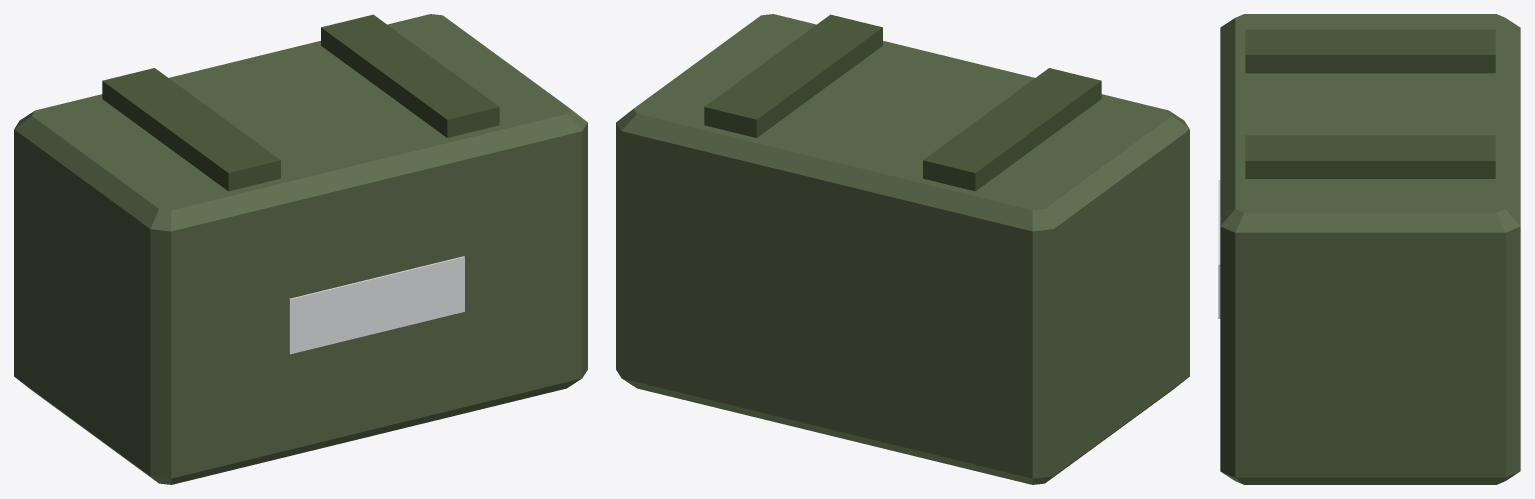
Rendered from supply_crate_military.glb.
The picture shows the model from 3 angles, left to right: view 1: azimuth 30°, elevation 25°; view 2: azimuth 150°, elevation 25°; view 3: azimuth 270°, elevation 25°; orthographic projection.
Parts seen in each view (by area): view 1: supply_crate_military; view 2: supply_crate_military; view 3: supply_crate_military.
Boxes of the visible parts, x1,y1,x2,y2 form: supply_crate_military: (14, 14, 587, 484); supply_crate_military: (616, 14, 1189, 484); supply_crate_military: (1218, 14, 1520, 484).
Bounding box in the file's own units: 1 × 0.64 × 0.6035.
